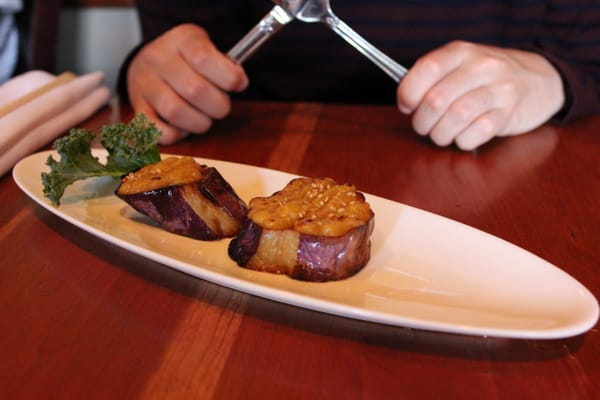burger: (222, 0, 411, 91)
curry: (41, 112, 163, 204), (97, 112, 163, 172)
